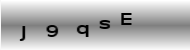9: (44, 24, 59, 38)
E: (120, 11, 134, 26)
J: (18, 25, 26, 42)
q: (76, 24, 90, 38)
s: (99, 20, 112, 30)
